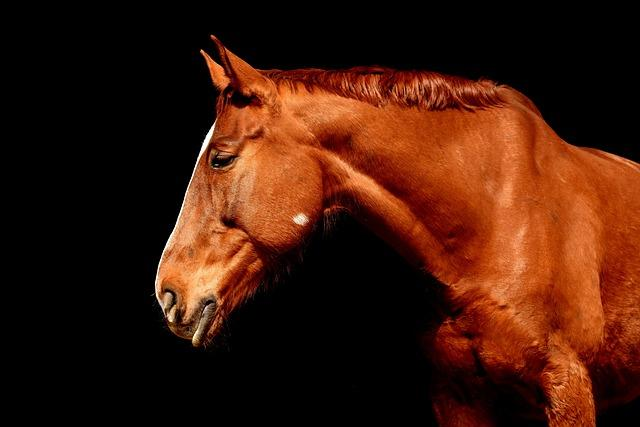Non_Gorille: (137, 2, 640, 427)
